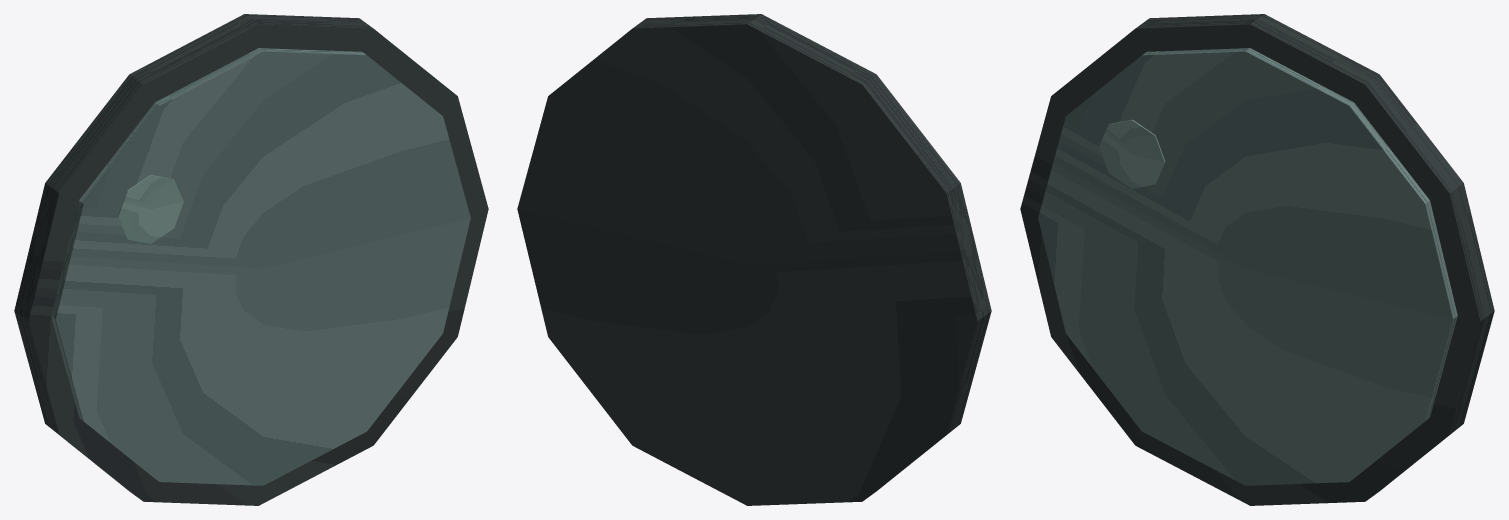
File: espejo_redondo.glb
The picture shows the model from 3 angles, left to right: view 1: azimuth 30°, elevation 25°; view 2: azimuth 150°, elevation 25°; view 3: azimuth 330°, elevation 25°; orthographic projection.
Parts seen in each view (by area): view 1: espejo_redondo; view 2: espejo_redondo; view 3: espejo_redondo.
Boxes of the visible parts, x1,y1,x2,y2 form: espejo_redondo: [14, 14, 488, 505]; espejo_redondo: [517, 14, 991, 505]; espejo_redondo: [1020, 14, 1494, 505].
Size of the model in its own units: 0.6828 by 0.6828 by 0.0506.
1 material, 1 textured.
